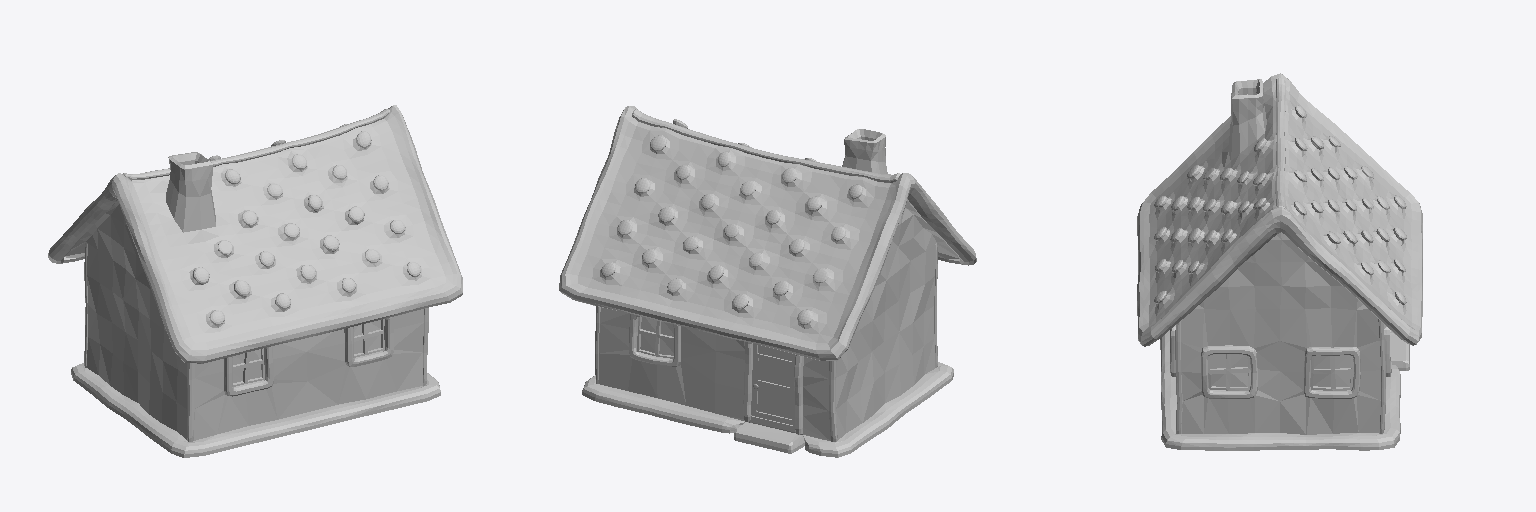
File: gingebreadHouse.obj
3 renders of one model, left to right at view 1: azimuth 30°, elevation 25°; view 2: azimuth 150°, elevation 25°; view 3: azimuth 270°, elevation 25°, orthographic.
Visible parts, largest first — view 1: gingerbreadhousemesh; view 2: gingerbreadhousemesh; view 3: gingerbreadhousemesh.
Boxes of the visible parts, <box> form: gingerbreadhousemesh: <box>48,105,462,457</box>; gingerbreadhousemesh: <box>559,106,976,457</box>; gingerbreadhousemesh: <box>1137,73,1422,450</box>.
Size of the model in its own units: 4.88 by 4.18 by 4.17.